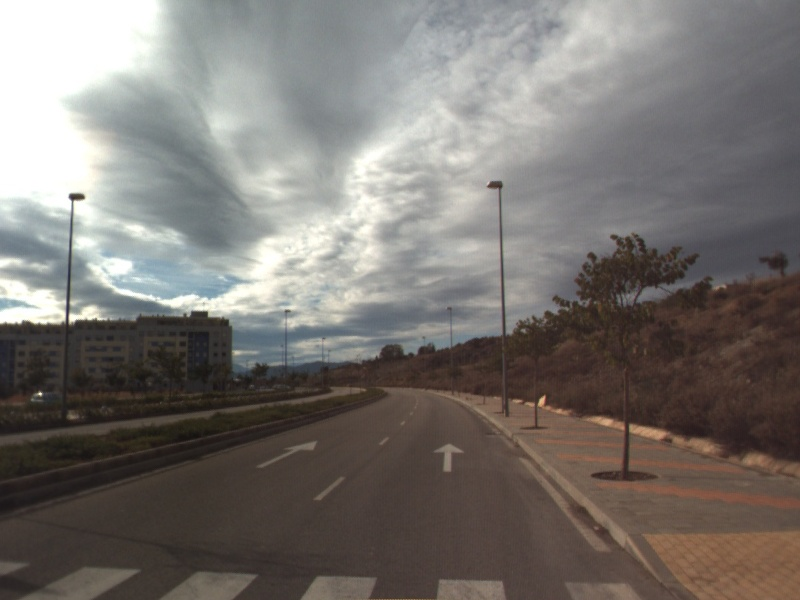STRAIGHT: (254, 439, 319, 470), (431, 441, 466, 474)
